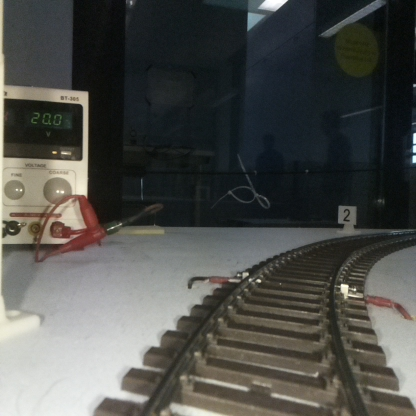white-stop-2: (338, 206, 355, 233)
